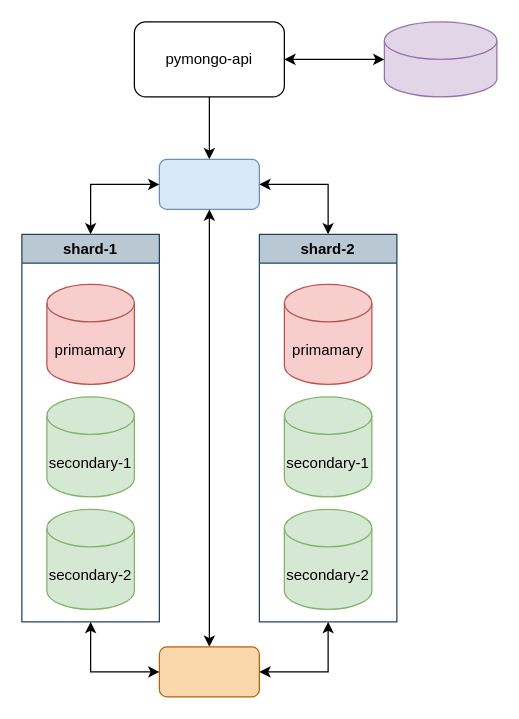
This 519x719 diagram has some shape labels left out. Each missing label, with the centre of its shape:
config-srv: point 208,671
mongos-router: point 208,183
redis: point 440,59
